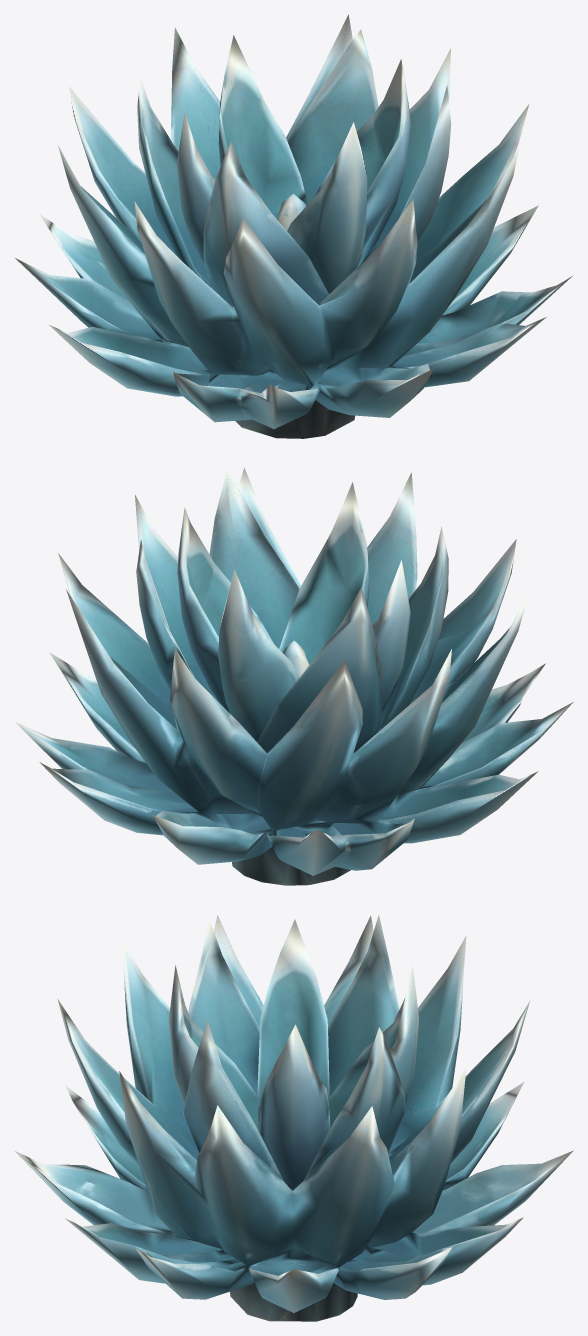
The model's file is agave.glb.
3 renders of one model, top to bottom at view 1: azimuth 30°, elevation 25°; view 2: azimuth 150°, elevation 25°; view 3: azimuth 270°, elevation 25°, orthographic.
Bounding box in the file's own units: 1.9 × 1.23 × 1.88.
Materials: 1 (1 with a texture image).
